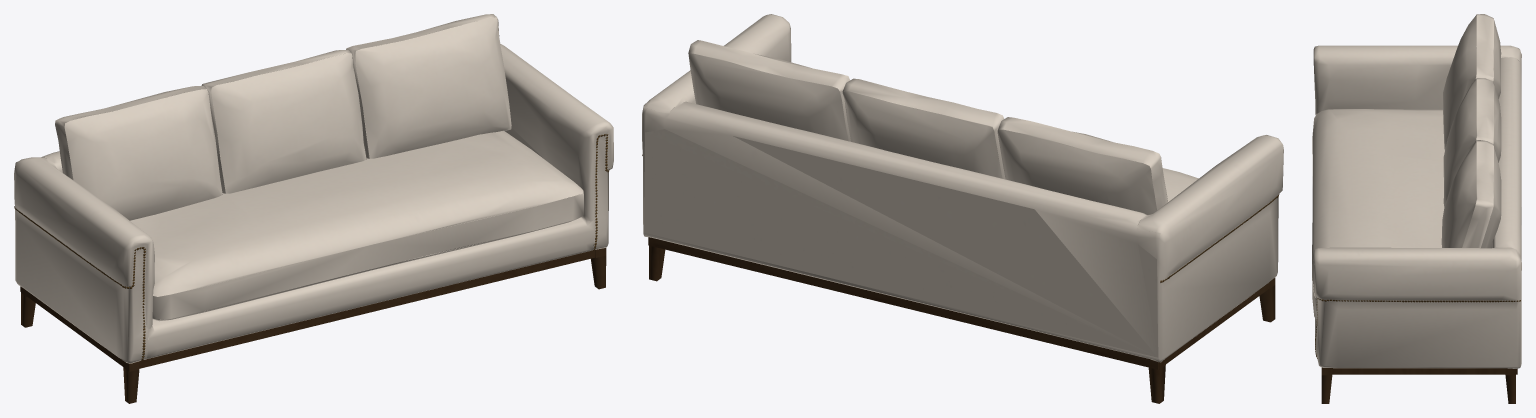
3 renders of one model, left to right at view 1: azimuth 30°, elevation 25°; view 2: azimuth 150°, elevation 25°; view 3: azimuth 270°, elevation 25°, orthographic. The views are drawn at different scales.
Parts seen in each view (by area): view 1: visual_RootNode; view 2: visual_RootNode; view 3: visual_RootNode.
Part boxes in pixels (bbox=[...]): visual_RootNode: bbox=[14, 14, 613, 403]; visual_RootNode: bbox=[642, 14, 1283, 403]; visual_RootNode: bbox=[1312, 14, 1521, 403].
Bounding box in the file's own units: 2.2 × 0.901 × 0.9104.
Materials: 1 (1 with a texture image).
